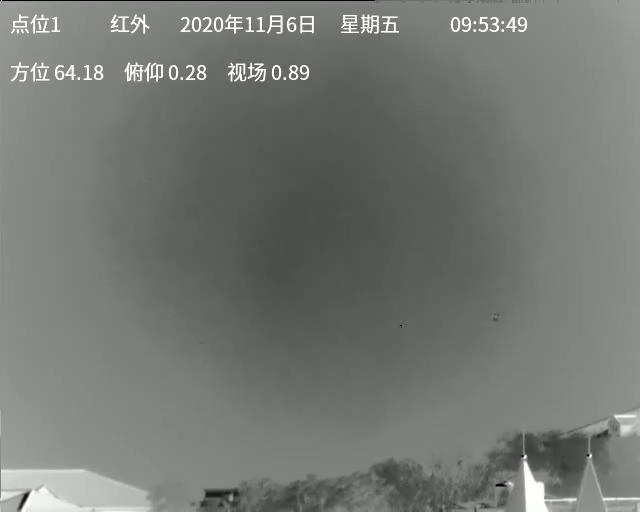uav: (490, 312, 502, 322)
